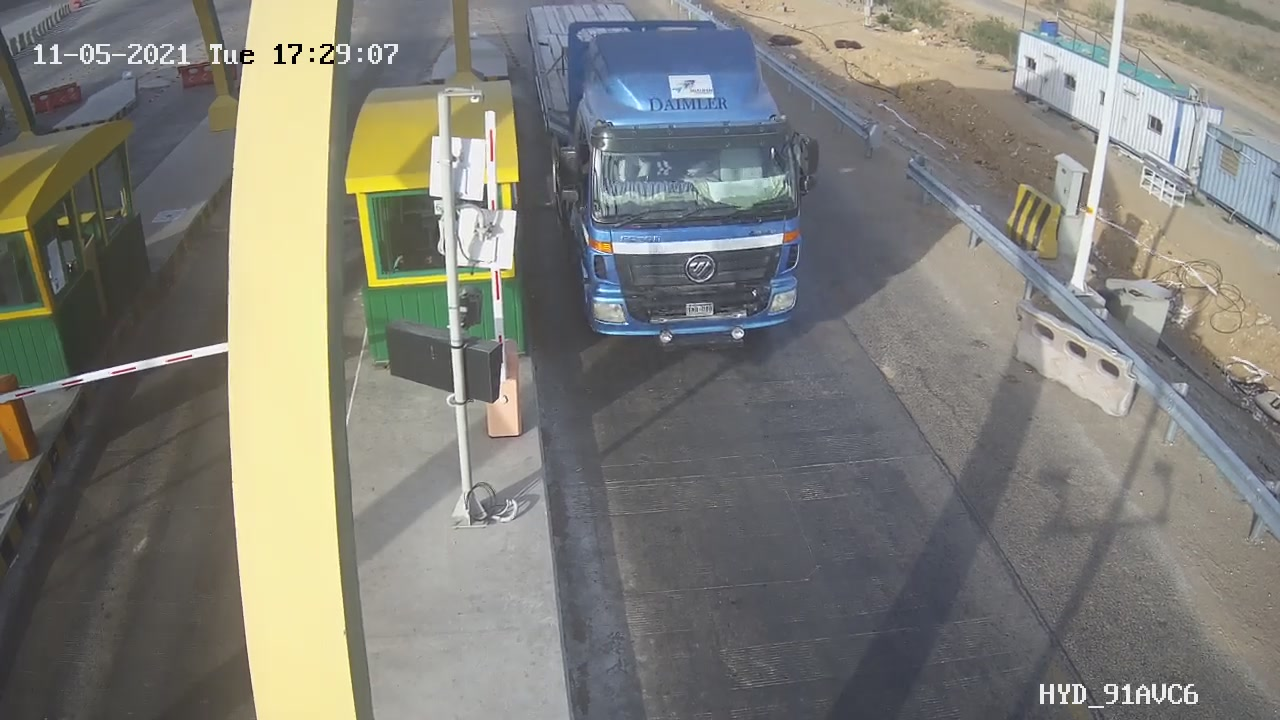F6: (516, 1, 850, 375)
